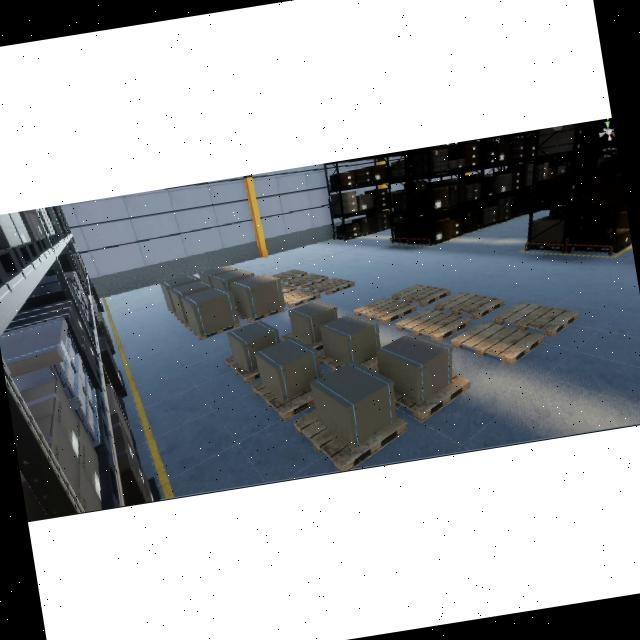wooden_pallet: (294, 410, 409, 472), (451, 321, 544, 365), (395, 373, 470, 422), (493, 302, 579, 337), (395, 308, 471, 342), (252, 381, 315, 421), (434, 292, 505, 320), (353, 297, 417, 324), (392, 284, 451, 307), (225, 356, 261, 385), (188, 323, 241, 340), (309, 278, 356, 295), (283, 288, 322, 308), (238, 308, 285, 323), (288, 273, 328, 288), (271, 269, 308, 282)
